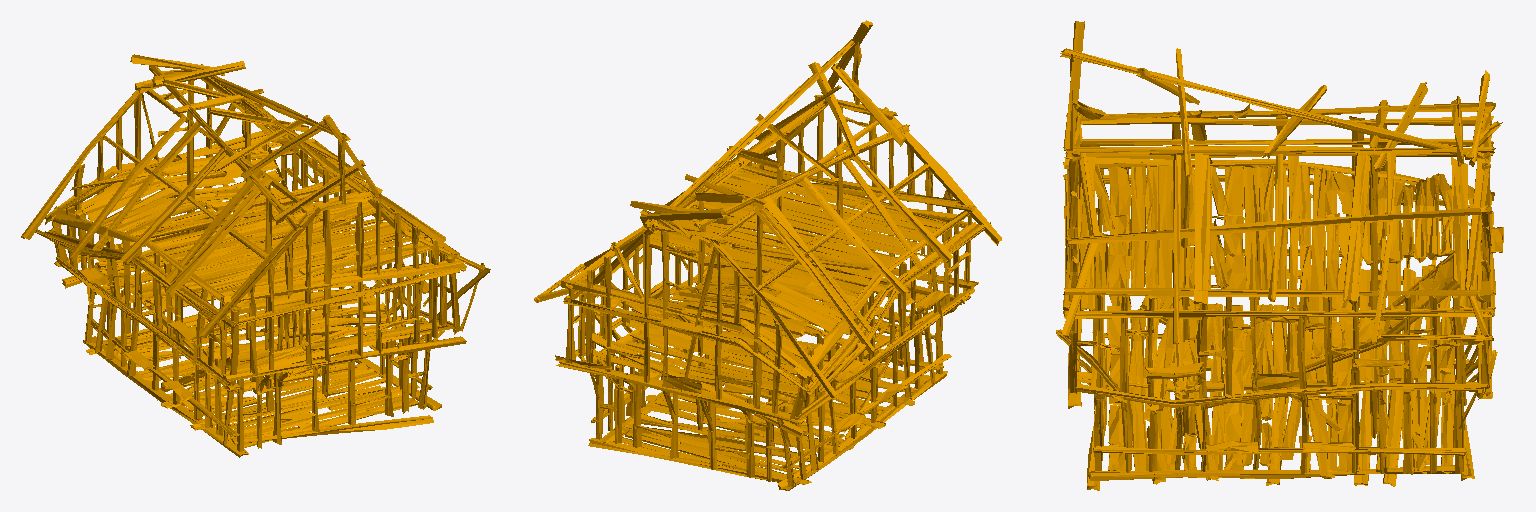
The robot description file, URDF, robot "hut_05":
<?xml version="1.0" ?>
<robot name="hut_05">
  <link name="root">
    <visual>
      <origin xyz="0 0 0" rpy="1.57 0 1.57" />
      <geometry>
        <mesh filename="hut_05.obj" scale="0.5 0.5 0.5"/>
      </geometry>
    </visual>
    <collision>
      <origin xyz="0 0 0" rpy="1.57 0 1.57" />
      <geometry>
        <mesh filename="hut_05.obj" scale="0.5 0.5 0.5"/>
      </geometry>
    </collision>
  </link>
</robot>

--- Render facts (derived) ---
The picture shows the robot from 3 angles, left to right: view 1: azimuth 30°, elevation 25°; view 2: azimuth 150°, elevation 25°; view 3: azimuth 270°, elevation 25°; orthographic projection.
Robot: hut_05 — 1 links, 0 joints (none); root link root; default pose: every joint at zero.
Links seen in each view (by area): view 1: root; view 2: root; view 3: root.
Boxes of the visible links, box(x1,y1,x2,y2) form: root: box(21, 54, 490, 457); root: box(534, 20, 1001, 490); root: box(1056, 21, 1503, 490).
Size in the robot's own frame: 7.99 by 8.65 by 8.62 metres.
Meshes: 1 distinct files referenced, 1 mesh visuals loaded (1 OBJ).
